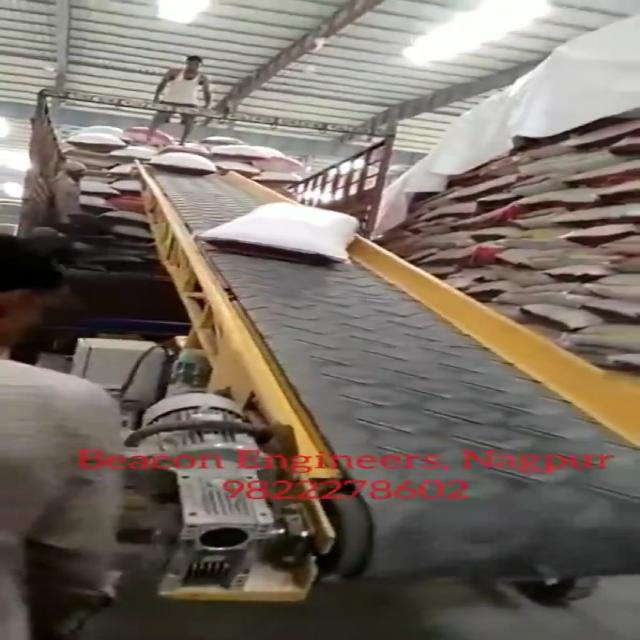Convoyeur: (128, 154, 640, 596)
